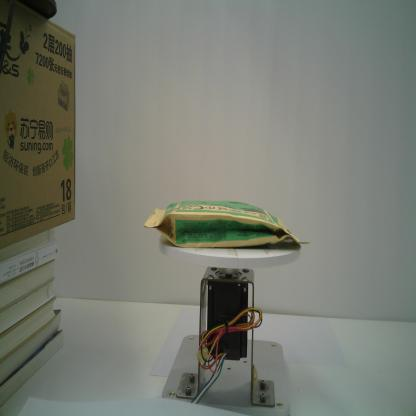Dried Food: (143, 198, 312, 251)
